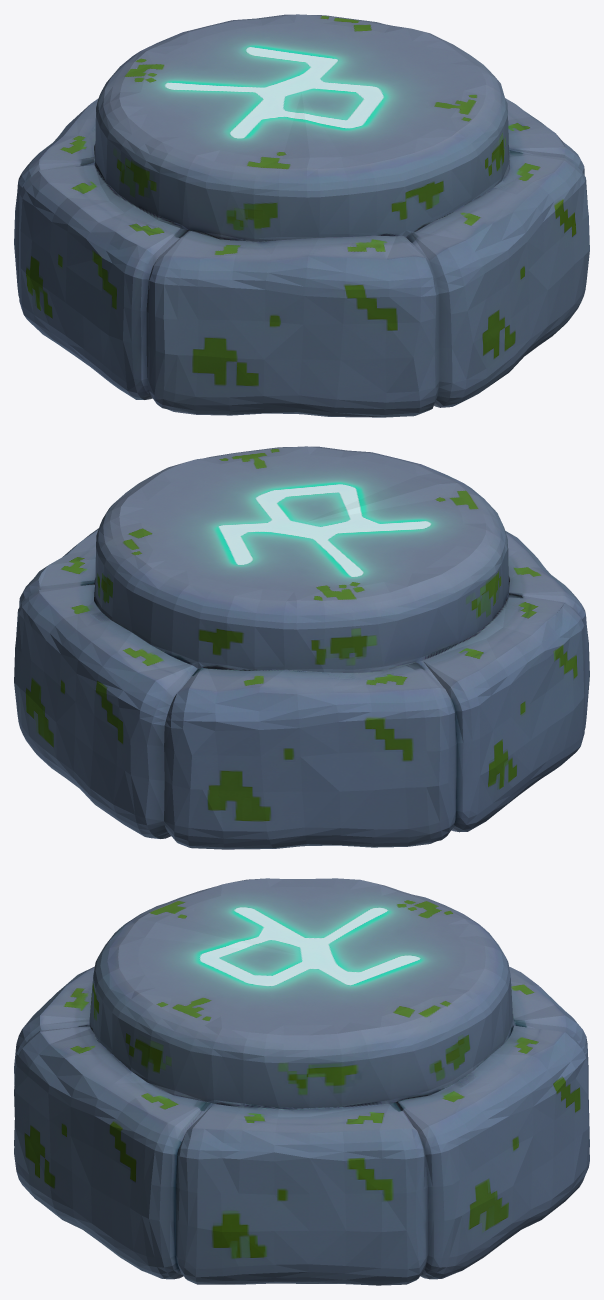
The model's file is Meshy_AI_hexagonal_circular_de_0703115026_texture.glb.
The picture shows the model from 3 angles, top to bottom: view 1: azimuth 30°, elevation 25°; view 2: azimuth 150°, elevation 25°; view 3: azimuth 270°, elevation 25°; orthographic projection.
Size of the model in its own units: 1.8 by 0.8532 by 1.91.
Materials: 1 (1 with a texture image).
